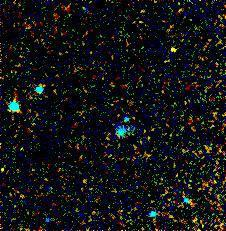star: (163, 36, 193, 66)
